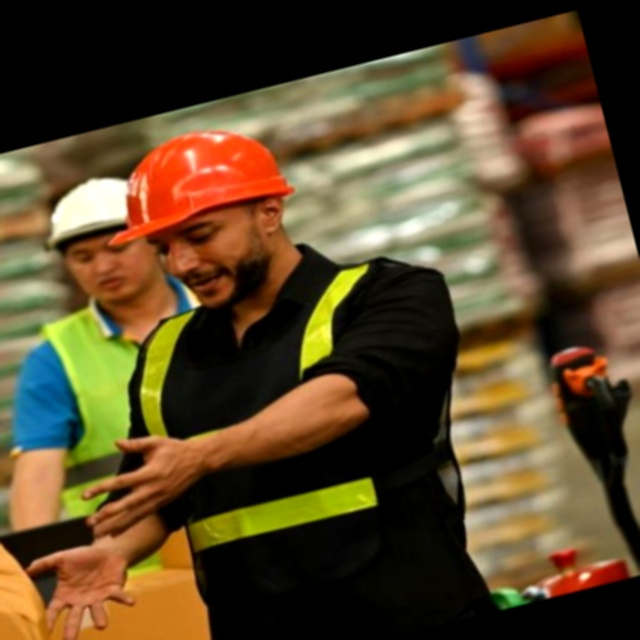Con_Chaleco: (109, 237, 499, 578)
